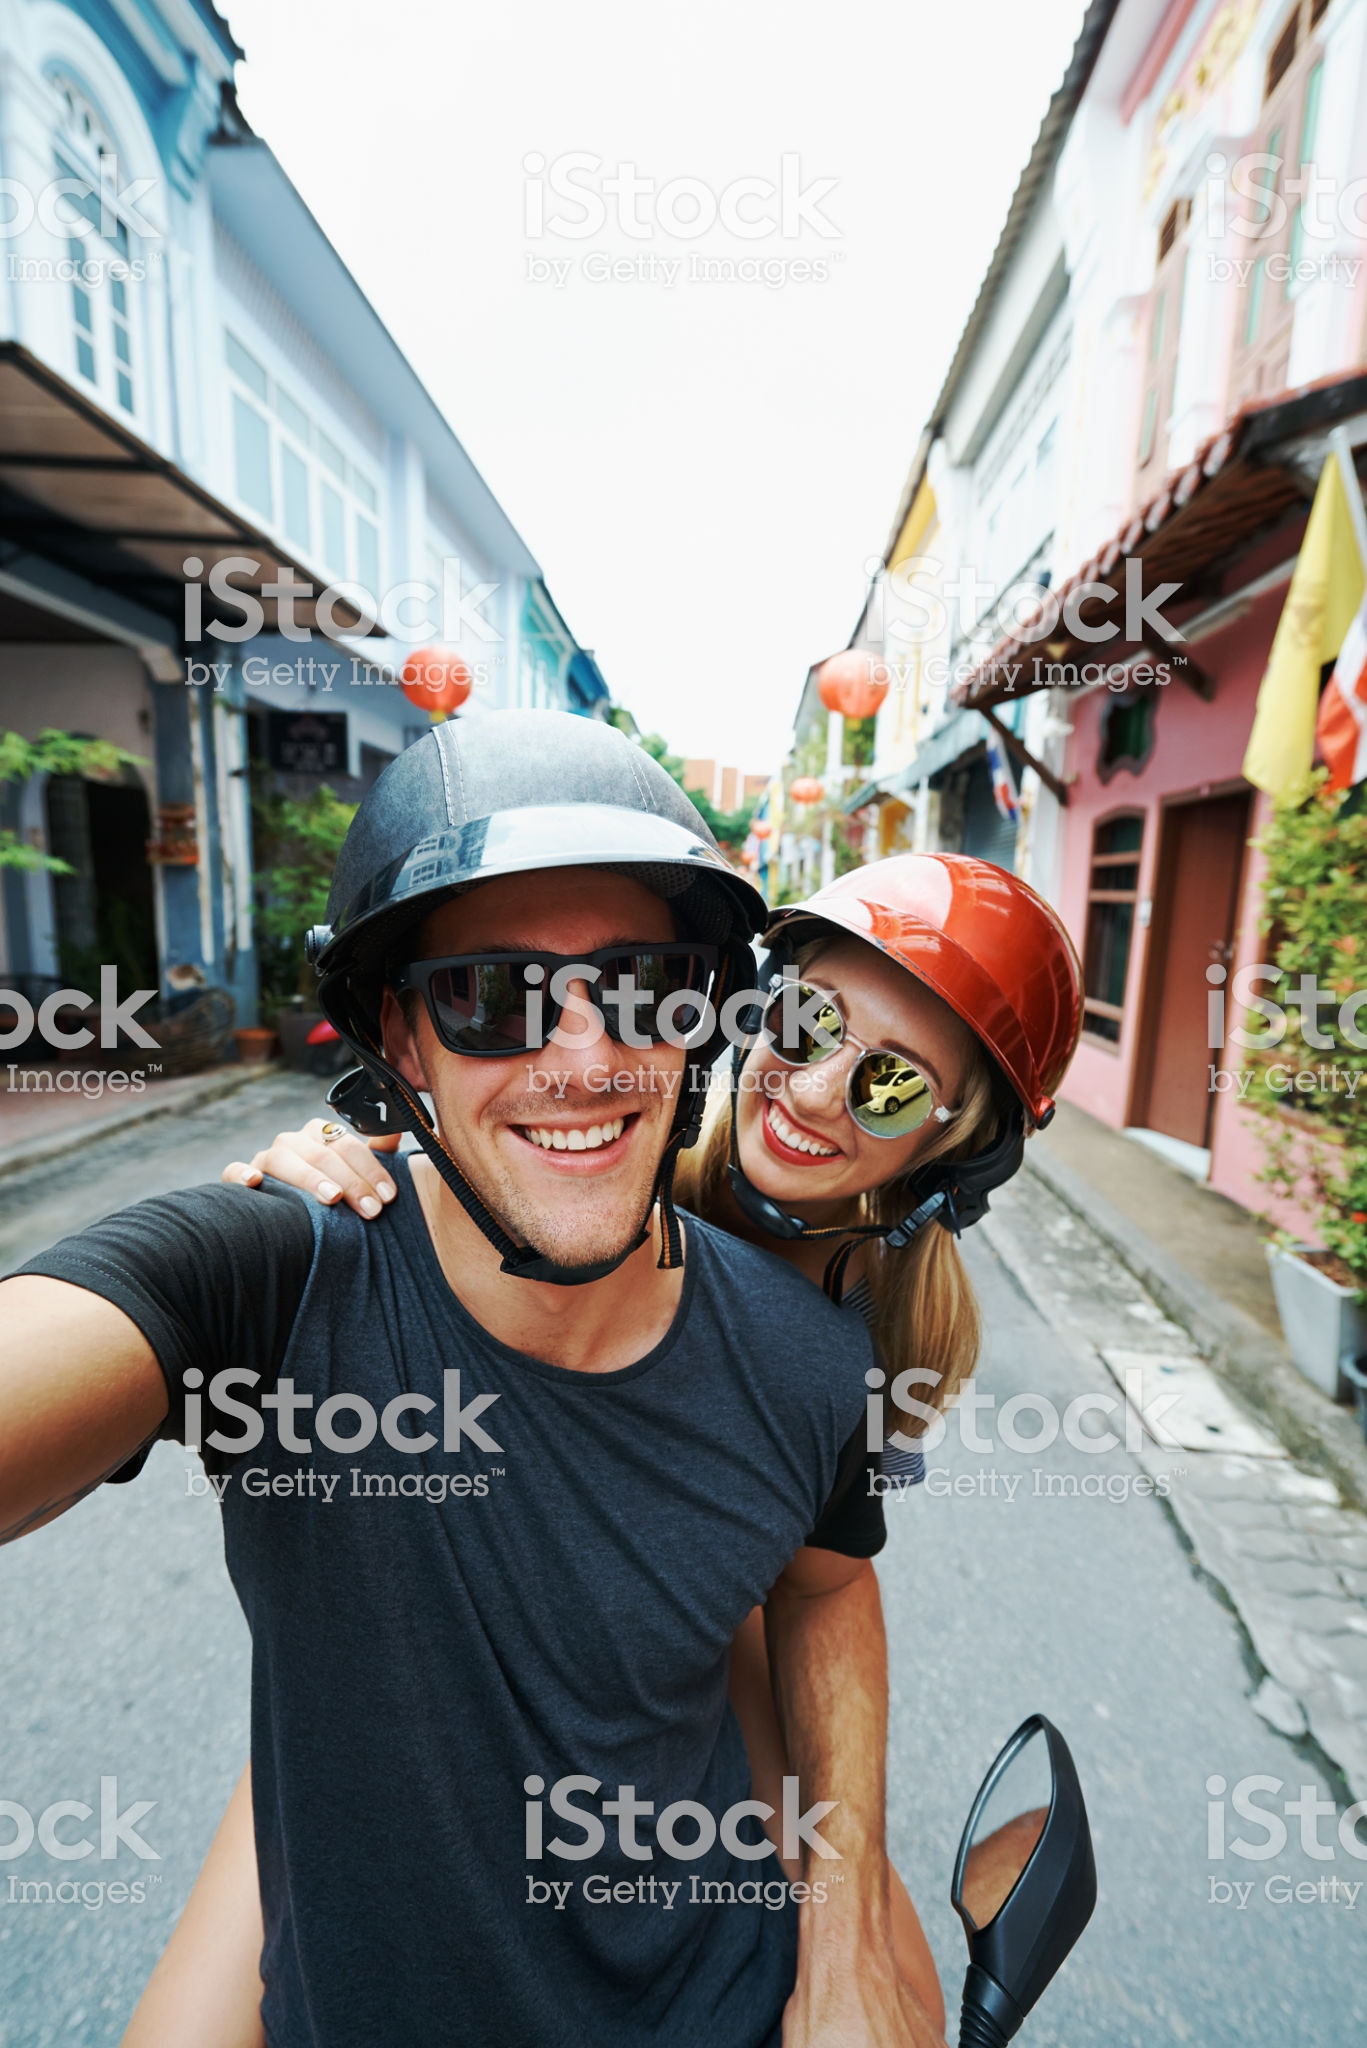helmet: (282, 714, 722, 923), (799, 836, 1121, 1072)
